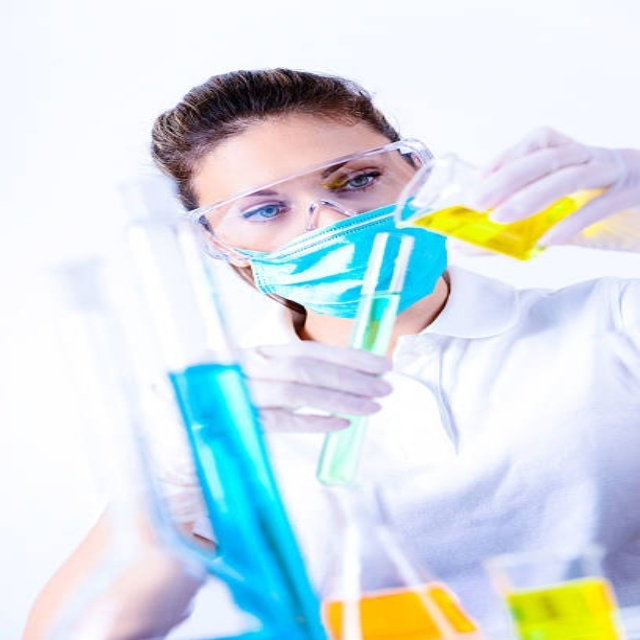Gafas: (186, 137, 439, 264)
Guantes: (456, 119, 632, 249), (243, 329, 392, 437)
Mascara: (236, 193, 448, 320)
